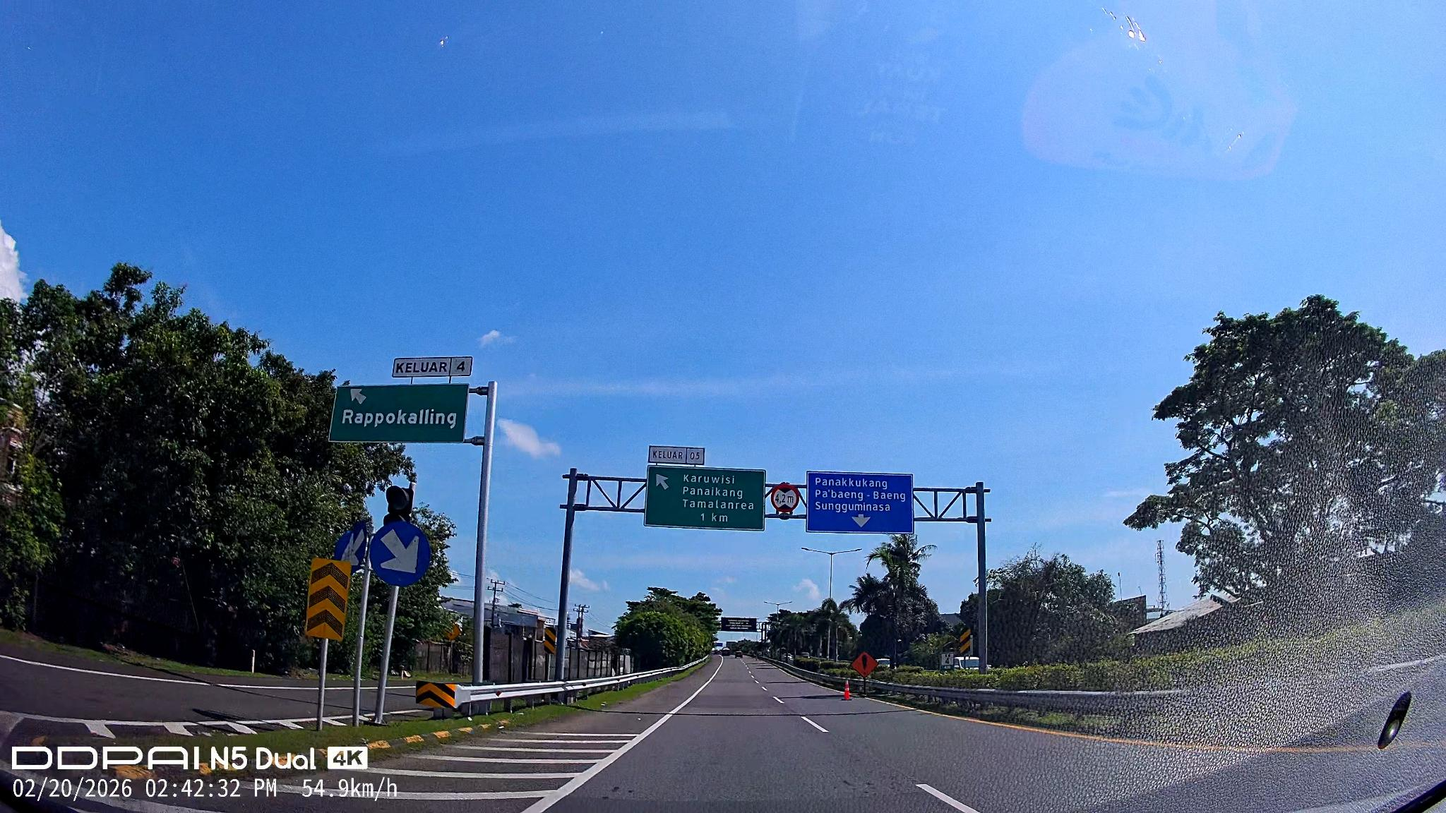rambu_teks: (329, 383, 470, 443), (644, 466, 766, 532), (805, 470, 914, 535)
